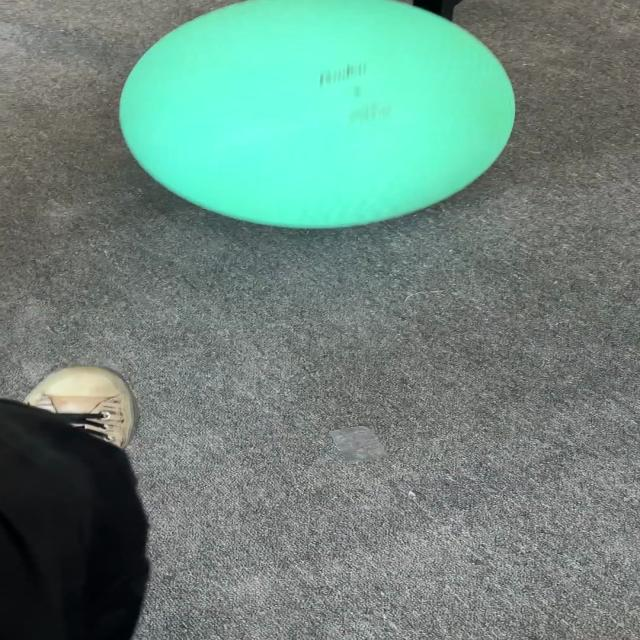Algae: (116, 1, 516, 230)
